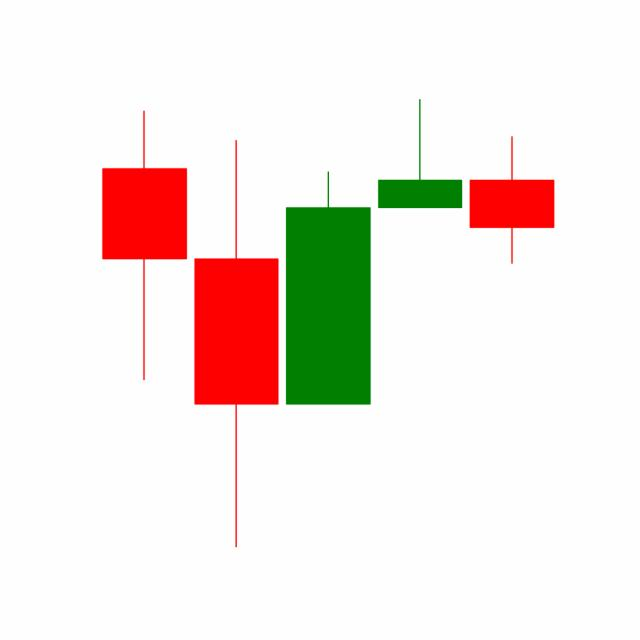Gravestone Doji: (373, 96, 467, 208)
